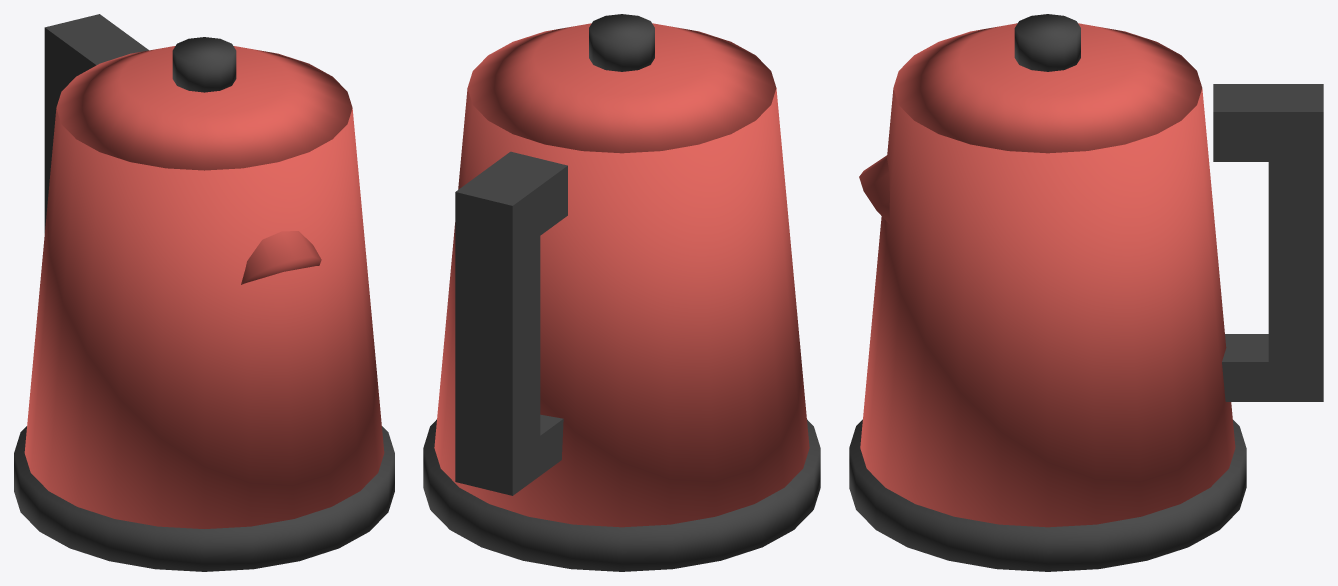
File: Prop_Kettle.fbx
3 views of the same model, side by side, from view 1: azimuth 30°, elevation 25°; view 2: azimuth 150°, elevation 25°; view 3: azimuth 270°, elevation 25° (orthographic). The views are drawn at different scales.
Parts seen in each view (by area): view 1: Prop_Kettle; view 2: Prop_Kettle; view 3: Prop_Kettle.
Part boxes in pixels (box(x1,y1,x2,y2)): Prop_Kettle: box(14, 14, 394, 571); Prop_Kettle: box(423, 14, 820, 571); Prop_Kettle: box(849, 14, 1323, 571).
Bounding box in the file's own units: 0.18 × 0.23 × 0.215.
